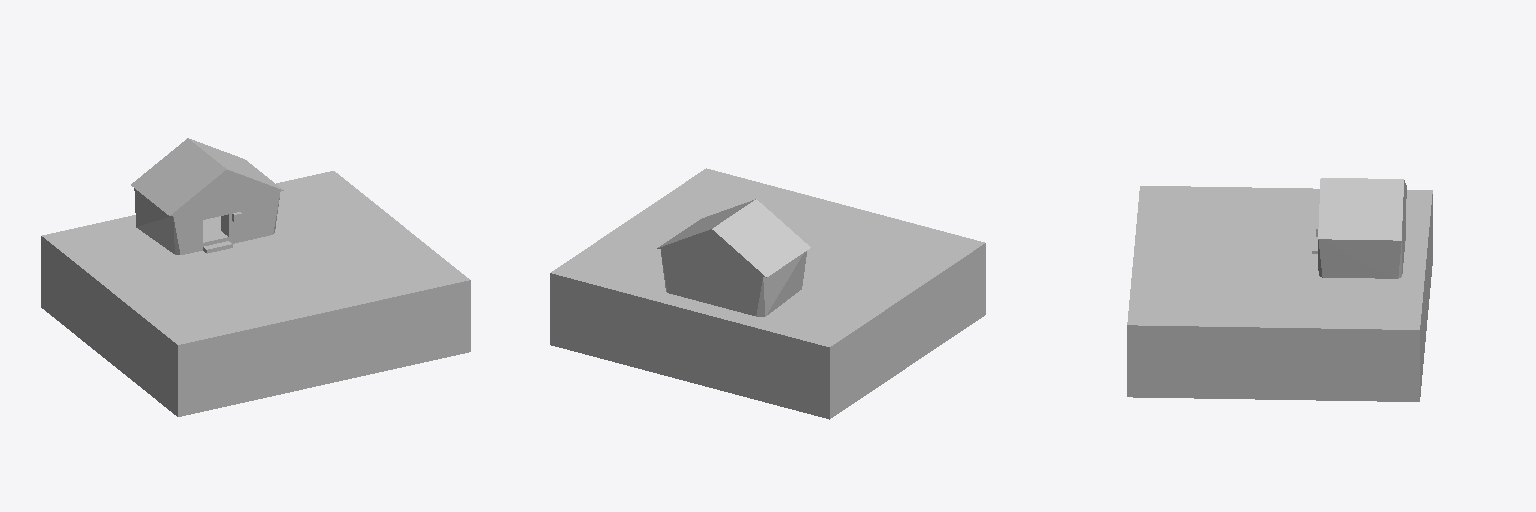
File: pinkhouse.obj
3 renders of one model, left to right at view 1: azimuth 30°, elevation 25°; view 2: azimuth 150°, elevation 25°; view 3: azimuth 270°, elevation 25°, orthographic.
Visible parts, largest first — view 1: mesh[number redacted]; view 2: mesh[number redacted]; view 3: mesh[number redacted].
Part boxes in pixels (x1,y1,x2,y2): mesh[number redacted]: (41, 138, 470, 416); mesh[number redacted]: (550, 168, 985, 419); mesh[number redacted]: (1127, 178, 1432, 401).
Size of the model in its own units: 0.8166 by 0.39 by 0.7301.